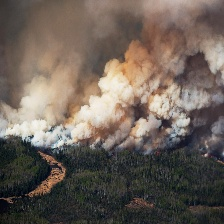smoke: (2, 3, 222, 149)
